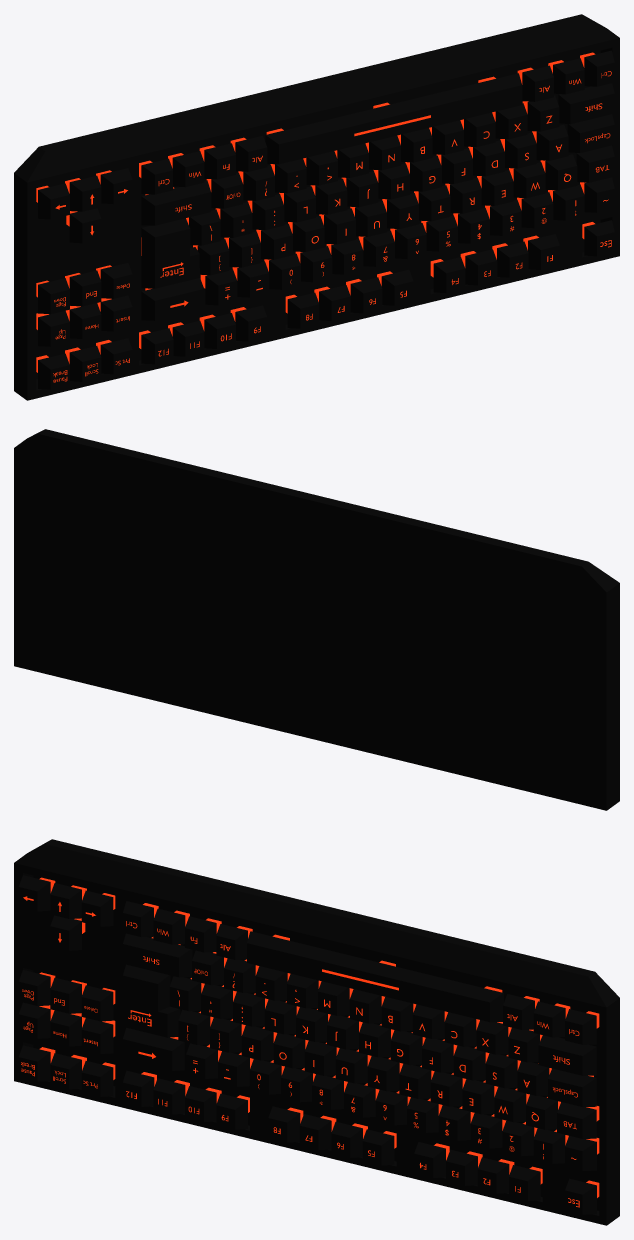
Rendered from keyboard.glb.
3 views of the same model, one above another, from view 1: azimuth 30°, elevation 25°; view 2: azimuth 150°, elevation 25°; view 3: azimuth 330°, elevation 25° (orthographic).
Parts seen in each view (by area): view 1: KeyBoard; view 2: KeyBoard; view 3: KeyBoard.
Boxes of the visible parts, x1,y1,x2,y2 form: KeyBoard: (14, 14, 619, 400); KeyBoard: (14, 429, 619, 810); KeyBoard: (14, 839, 619, 1225).
Bounding box in the file's own units: 3.72 × 1.43 × 0.2473.
